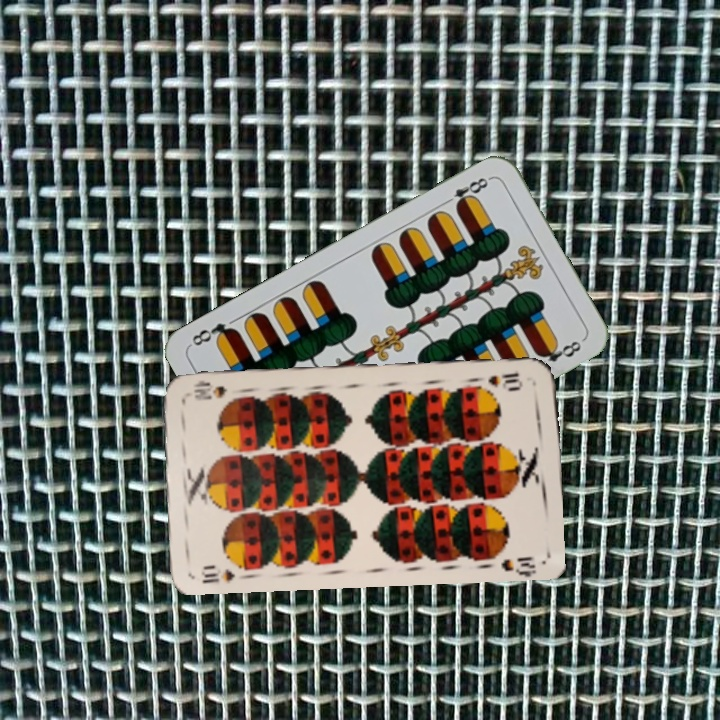E8: (440, 173, 494, 212)
S10: (197, 561, 237, 586), (483, 369, 526, 390)
